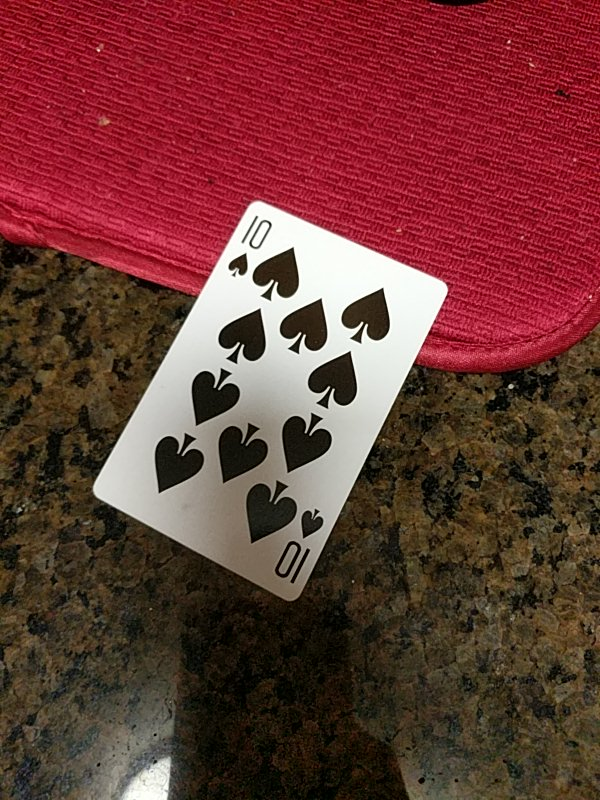Spades: (93, 201, 450, 606)
